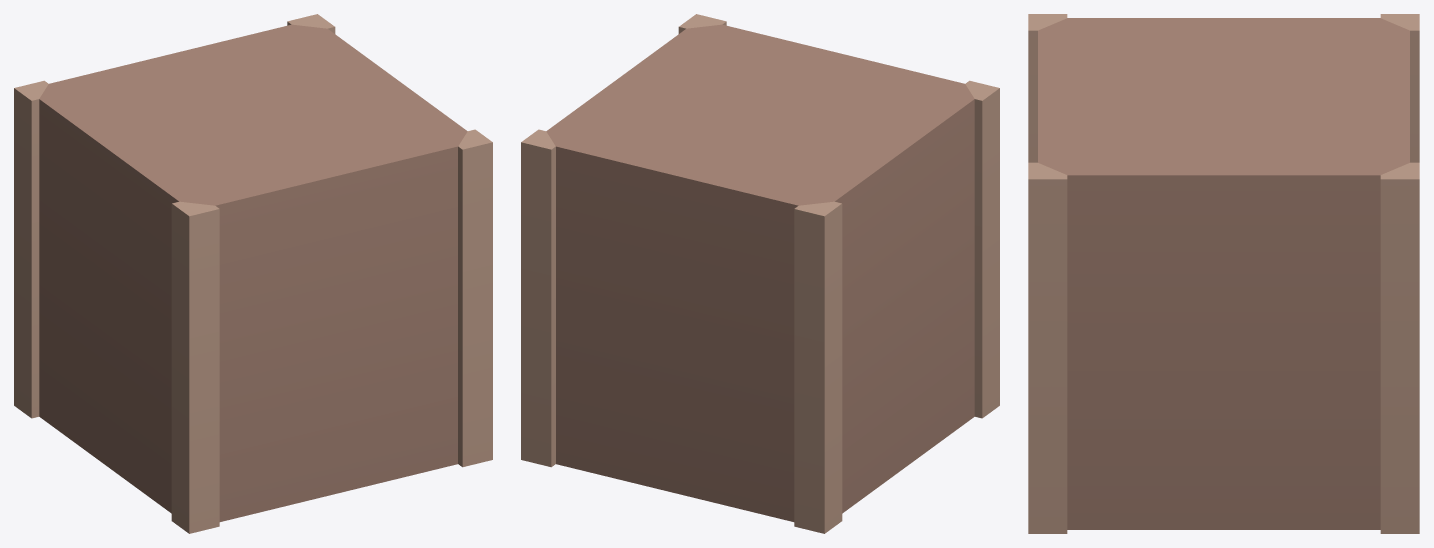
The model's file is wall-wood-block.glb.
3 views of the same model, side by side, from view 1: azimuth 30°, elevation 25°; view 2: azimuth 150°, elevation 25°; view 3: azimuth 270°, elevation 25° (orthographic). The views are drawn at different scales.
Visible parts, largest first — view 1: wall-wood-block; view 2: wall-wood-block; view 3: wall-wood-block.
Boxes of the visible parts, x1=… form: wall-wood-block: x1=14, y1=14, x2=492, y2=533; wall-wood-block: x1=521, y1=14, x2=999, y2=533; wall-wood-block: x1=1028, y1=14, x2=1419, y2=533.
Bounding box in the file's own units: 1 × 1 × 1.
